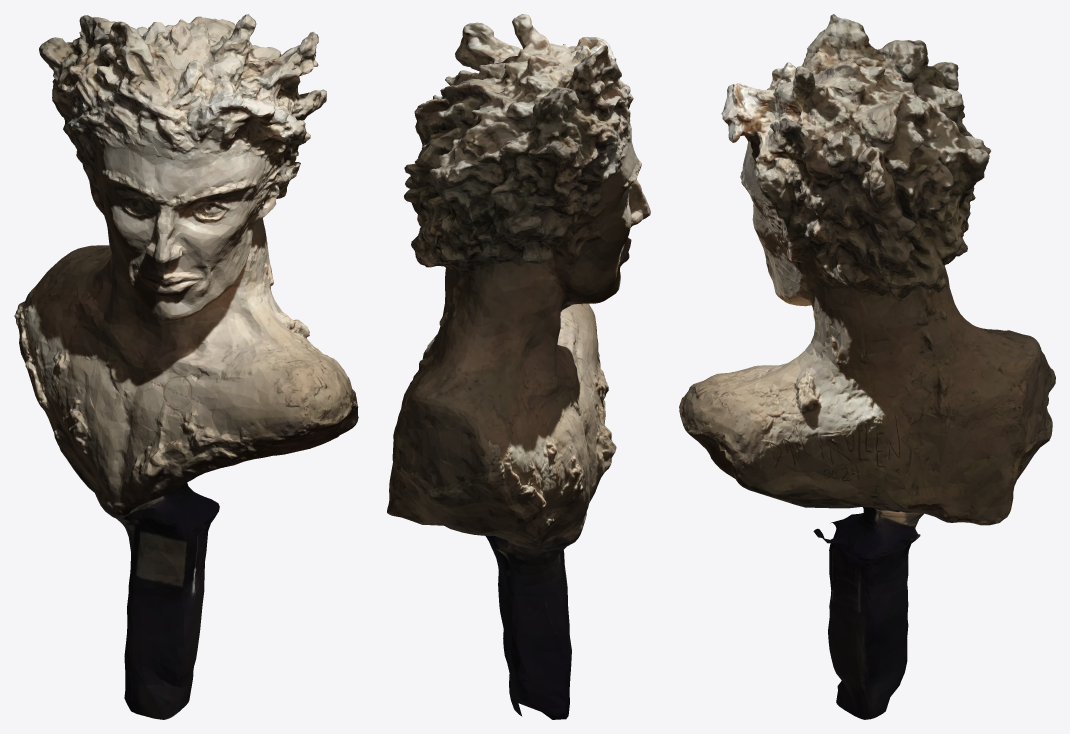
The model's file is vigilante.glb.
3 views of the same model, side by side, from view 1: azimuth 30°, elevation 25°; view 2: azimuth 150°, elevation 25°; view 3: azimuth 270°, elevation 25° (orthographic). The views are drawn at different scales.
Size of the model in its own units: 0.6145 by 1.84 by 0.9426.
1 material, 1 textured.
